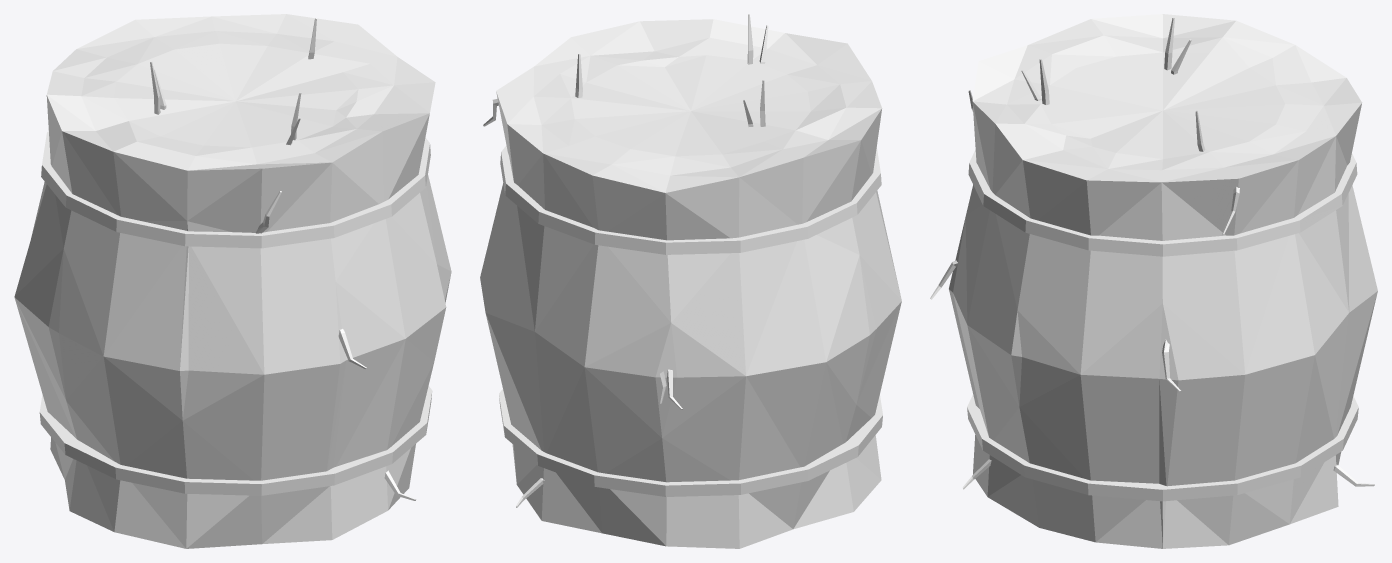
File: Prop_Hay_Bale_Round_02.glb
3 views of the same model, side by side, from view 1: azimuth 30°, elevation 25°; view 2: azimuth 150°, elevation 25°; view 3: azimuth 270°, elevation 25° (orthographic). The views are drawn at different scales.
Parts seen in each view (by area): view 1: Prop_Hay_Bale_Round_02; view 2: Prop_Hay_Bale_Round_02; view 3: Prop_Hay_Bale_Round_02.
Boxes of the visible parts, box(x1,y1,x2,y2) form: Prop_Hay_Bale_Round_02: box(14, 14, 451, 548); Prop_Hay_Bale_Round_02: box(480, 14, 901, 548); Prop_Hay_Bale_Round_02: box(930, 14, 1377, 548).
Bounding box in the file's own units: 1.29 × 1.37 × 1.33.
1 material, 1 textured.
